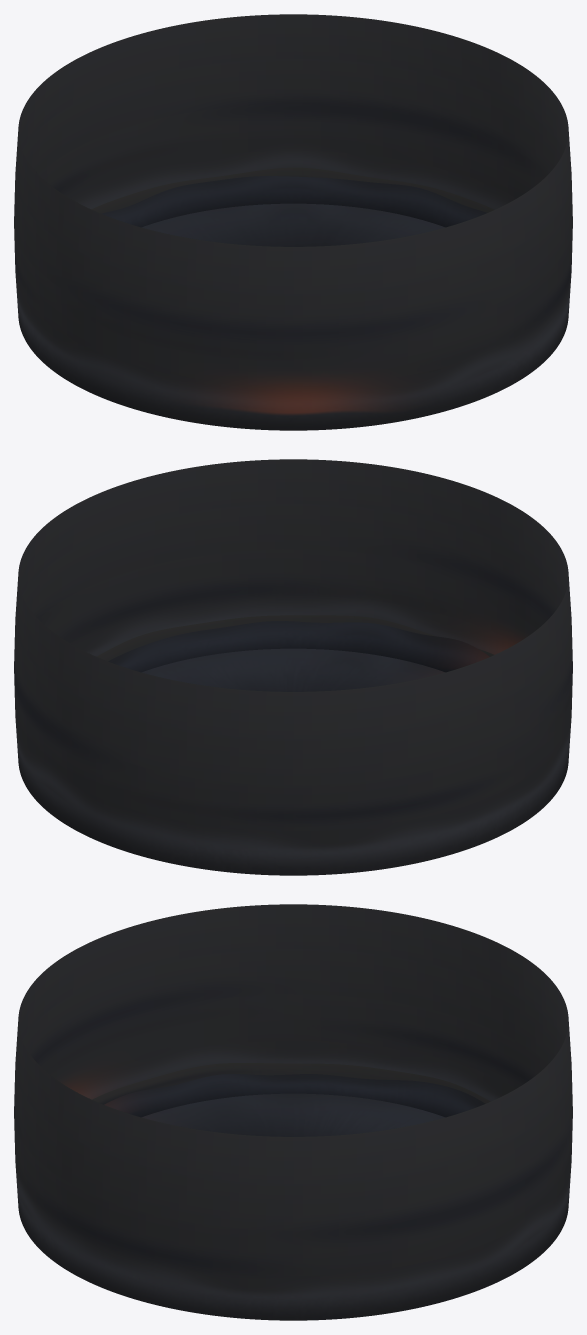
File: moth-season-panorama.glb
3 renders of one model, top to bottom at view 1: azimuth 30°, elevation 25°; view 2: azimuth 150°, elevation 25°; view 3: azimuth 270°, elevation 25°, orthographic.
Visible parts, largest first — view 1: MothSeasonPanorama; view 2: MothSeasonPanorama; view 3: MothSeasonPanorama.
Part boxes in pixels (x1,y1,x2,y2): MothSeasonPanorama: (14,14,572,430); MothSeasonPanorama: (14,459,572,875); MothSeasonPanorama: (14,904,572,1320).
Size of the model in its own units: 386 by 140 by 386.
Materials: 1 (1 with a texture image).
